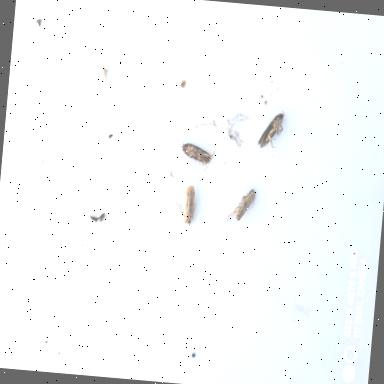pbw: (225, 189, 259, 228), (254, 109, 284, 151), (178, 136, 213, 168), (178, 184, 198, 226)
